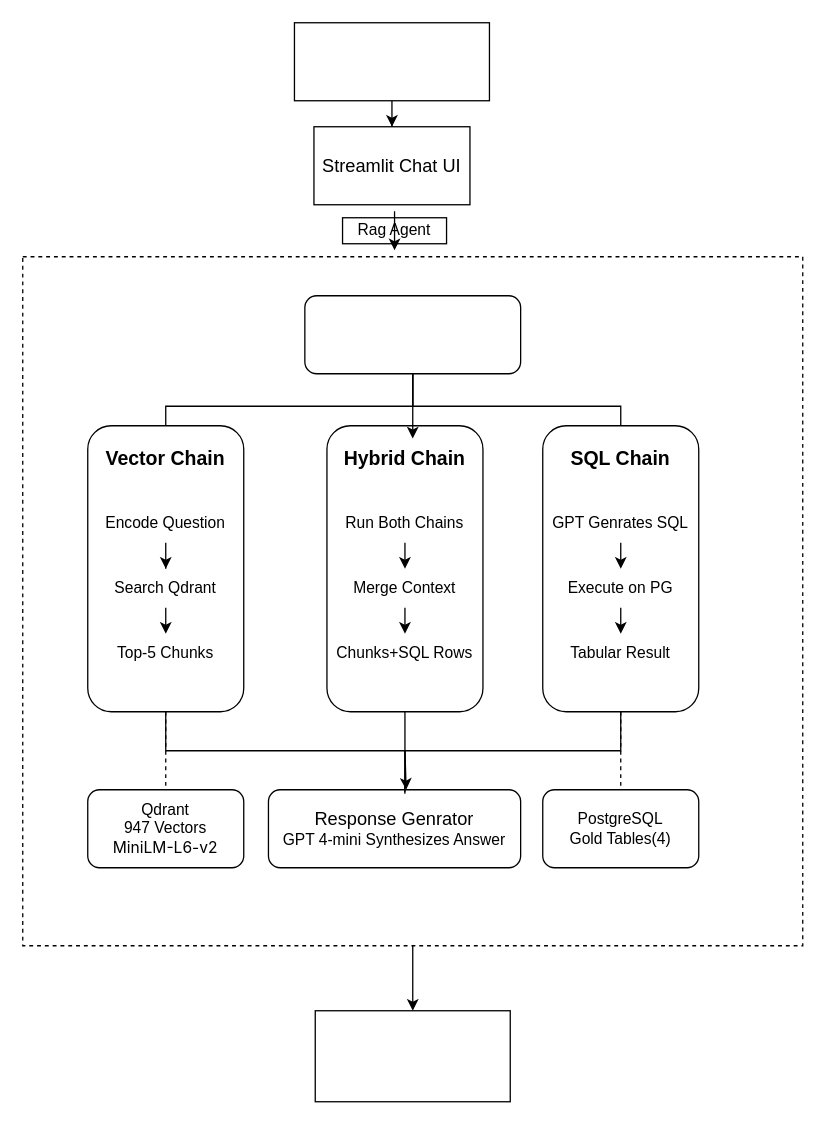
The diagram is 826 pixels wide and 1125 high, and some of its shapes have lost their labels. The shapes that lost their labels are listed below. From the top down, each one's centre as x and y in pixels, then its label:
At point 391,61: "User Question".
At point 412,334: "Query Router GPT 4-mini Classifies Intent".
At point 412,1055: "Cited Answer Soures, SQL, Report Links".
